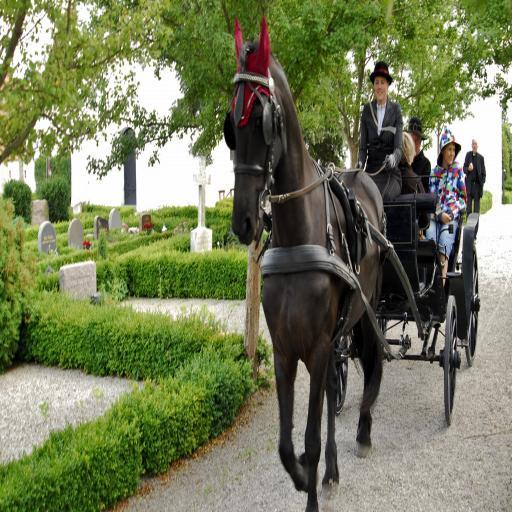Horse: (224, 8, 384, 496)
